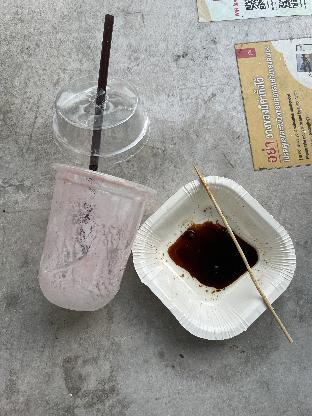Styrofoam: (125, 162, 312, 361), (28, 158, 161, 324), (42, 76, 153, 169)
